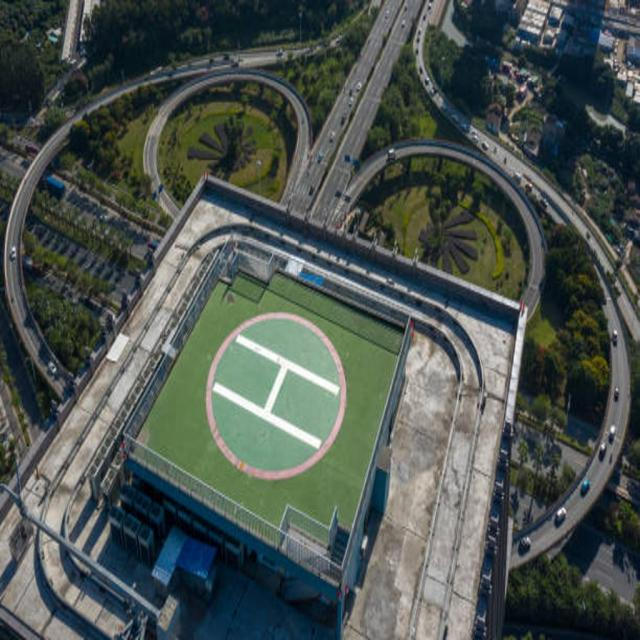helipad: (202, 309, 347, 480)
